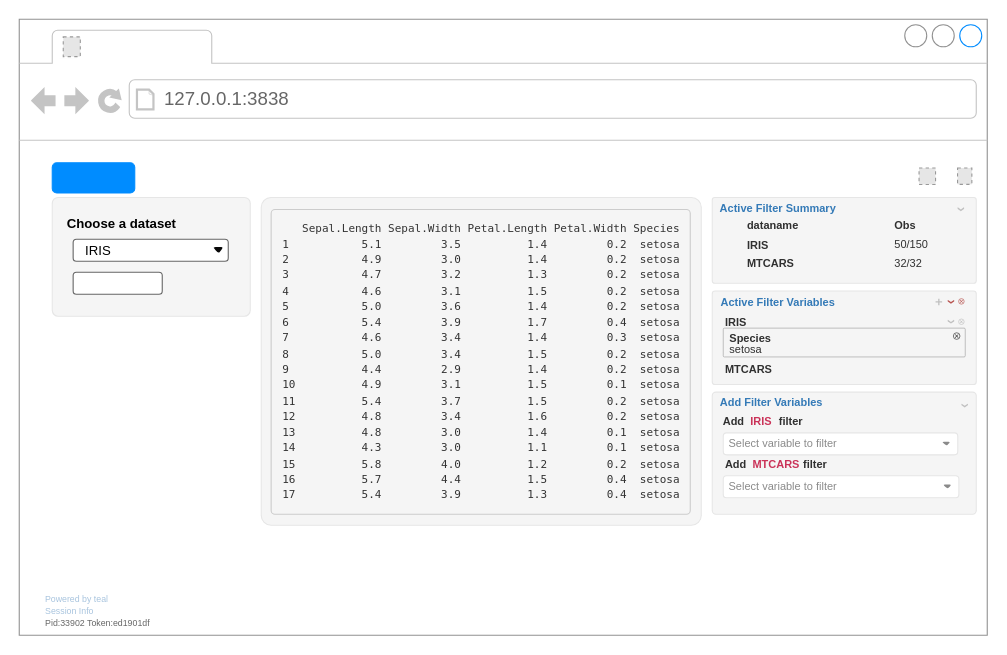
This 1007x655 diagram has some shape labels left out. Grey dashed boxes stand in for pictures. Each missing label, with the centre of its shape:
"Module 1" belongs at point (93, 177).
"Show R code" belongs at point (117, 282).
"teal app" belongs at point (145, 46).
